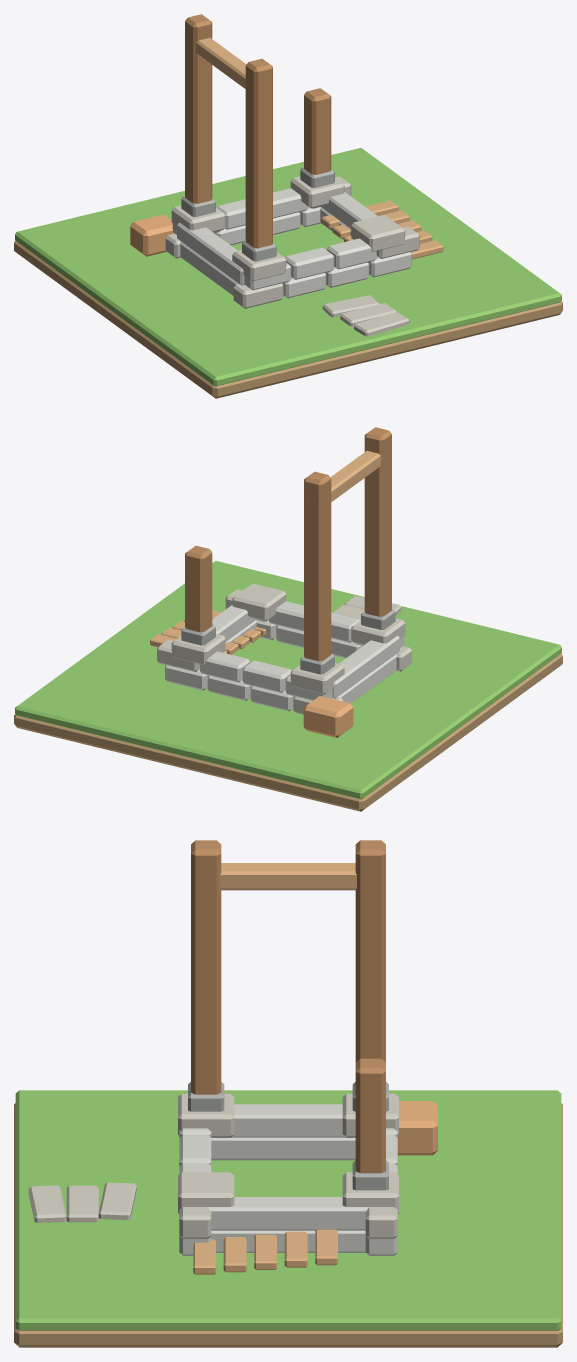
The model's file is tower_l03_construction.glb.
3 renders of one model, top to bottom at view 1: azimuth 30°, elevation 25°; view 2: azimuth 150°, elevation 25°; view 3: azimuth 270°, elevation 25°, orthographic. The views are drawn at different scales.
Visible parts, largest first — view 1: tower_l03_grass_tile, tower_l03_earth_tile, post_-0.61_-0.54, post_-0.61_0.54, post_0.61_0.54, stone_return_1_-0.72, foot_0.61_-0.54, unmounted_instrument_case, temporary_crossbar, stone_course_1_-1_1, foot_-0.61_-0.54, stone_course_1_-1_2 (+20 smaller); view 2: tower_l03_grass_tile, tower_l03_earth_tile, post_-0.61_0.54, post_-0.61_-0.54, post_0.61_0.54, stone_return_1_-0.72, unmounted_instrument_case, foot_0.61_-0.54, temporary_crossbar, stone_course_1_1_1, foot_-0.61_0.54, stone_course_1_1_2 (+14 smaller); view 3: tower_l03_grass_tile, tower_l03_earth_tile, post_-0.61_-0.54, post_-0.61_0.54, stone_return_1_0.72, temporary_crossbar, stone_return_1_-0.72, post_0.61_0.54, stone_return_0_-0.72, unmounted_instrument_case, foot_0.61_-0.54, stone_return_0_0.72 (+16 smaller).
Part boxes in pixels (x1,y1,x2,y2): tower_l03_grass_tile: [15, 148, 561, 386]; tower_l03_earth_tile: [14, 240, 562, 398]; post_-0.61_-0.54: [245, 58, 272, 248]; post_-0.61_0.54: [185, 14, 212, 203]; post_0.61_0.54: [304, 88, 331, 174]; stone_return_1_-0.72: [177, 222, 244, 285]; foot_0.61_-0.54: [351, 215, 405, 251]; unmounted_instrument_case: [130, 214, 174, 256]; temporary_crossbar: [196, 38, 270, 93]; stone_course_1_-1_1: [285, 247, 334, 279]; foot_-0.61_-0.54: [232, 250, 286, 281]; stone_course_1_-1_2: [327, 238, 376, 269]; tower_l03_grass_tile: [15, 561, 561, 799]; tower_l03_earth_tile: [14, 653, 562, 811]; post_-0.61_0.54: [304, 471, 331, 661]; post_-0.61_-0.54: [364, 427, 391, 616]; post_0.61_0.54: [185, 545, 212, 632]; stone_return_1_-0.72: [332, 635, 399, 698]; unmounted_instrument_case: [303, 696, 353, 737]; foot_0.61_-0.54: [232, 583, 286, 621]; temporary_crossbar: [306, 451, 380, 506]; stone_course_1_1_1: [242, 660, 291, 692]; foot_-0.61_0.54: [290, 663, 344, 694]; stone_course_1_1_2: [200, 651, 249, 682]; tower_l03_grass_tile: [15, 1090, 561, 1330]; tower_l03_earth_tile: [14, 1103, 562, 1347]; post_-0.61_-0.54: [191, 840, 221, 1094]; post_-0.61_0.54: [355, 840, 385, 1062]; stone_return_1_0.72: [208, 1197, 372, 1230]; temporary_crossbar: [220, 863, 356, 890]; stone_return_1_-0.72: [231, 1104, 345, 1137]; post_0.61_0.54: [355, 1058, 385, 1173]; stone_return_0_-0.72: [211, 1137, 355, 1160]; unmounted_instrument_case: [397, 1101, 437, 1155]; foot_0.61_-0.54: [178, 1172, 234, 1213]; stone_return_0_0.72: [211, 1230, 365, 1252].
Size of the model in its own units: 3.6 by 2.53 by 3.6.
